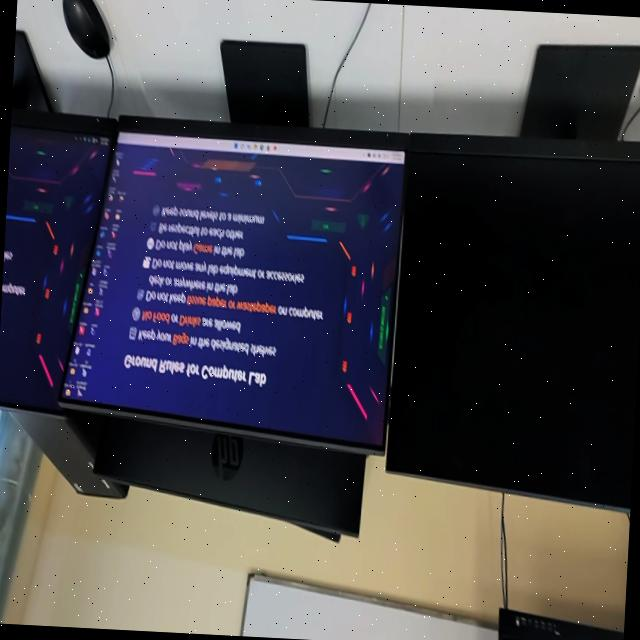Cpu: (9, 409, 127, 498)
Digital board: (497, 606, 624, 640)
Monitor: (60, 41, 404, 452), (386, 44, 640, 510), (0, 31, 114, 413), (93, 414, 365, 541)
Mouse: (62, 0, 108, 57)
